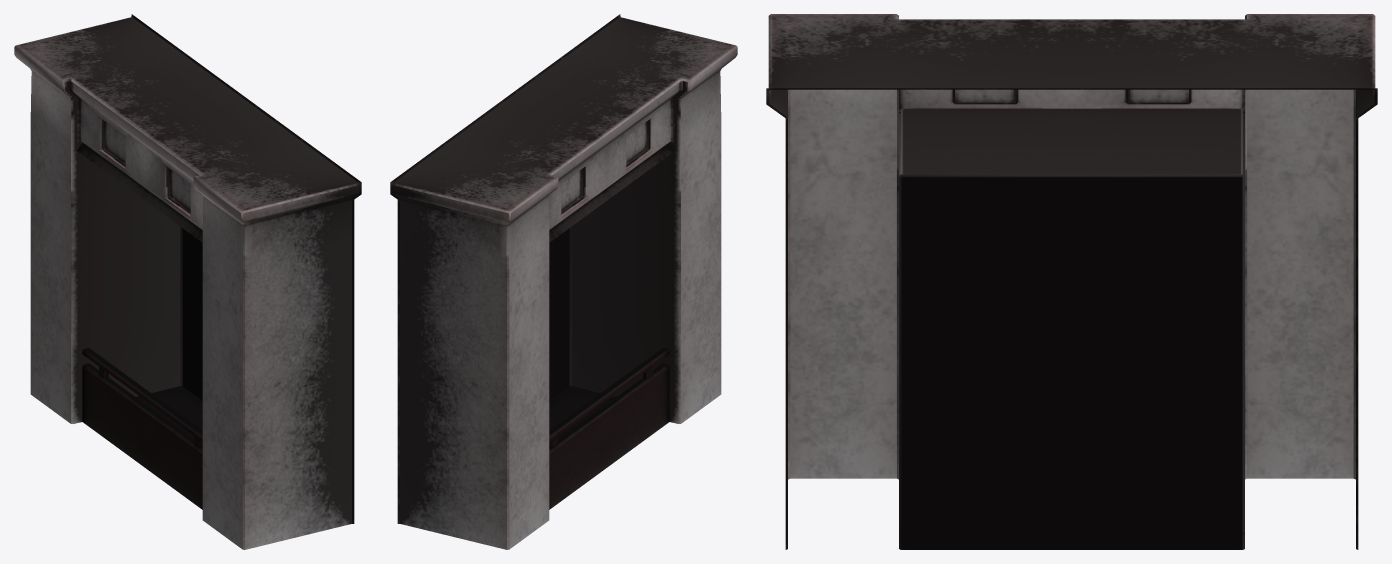
Rendered from fireplace_without_wall_with_texture.fbx.
3 views of the same model, side by side, from view 1: azimuth 30°, elevation 25°; view 2: azimuth 150°, elevation 25°; view 3: azimuth 270°, elevation 25° (orthographic). The views are drawn at different scales.
Parts seen in each view (by area): view 1: fireplace001; view 2: fireplace001; view 3: fireplace001.
Boxes of the visible parts, bbox=[...] form: fireplace001: bbox=[14, 14, 361, 549]; fireplace001: bbox=[390, 14, 737, 549]; fireplace001: bbox=[766, 14, 1377, 549].
Bounding box in the file's own units: 10.02 × 27.87 × 33.47.
1 material, 1 textured.
